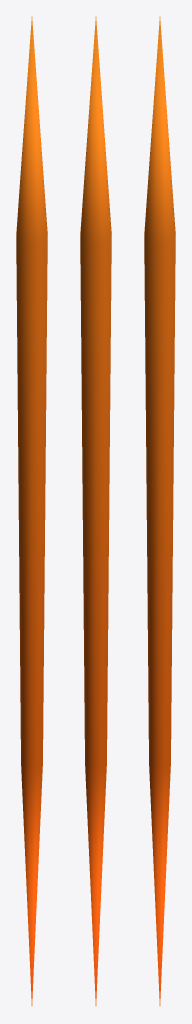
Rendered from Explosion_SparkStreak.fbx.
The picture shows the model from 3 angles, left to right: view 1: azimuth 90°, elevation 25°; view 2: azimuth 150°, elevation 25°; view 3: azimuth 270°, elevation 25°; orthographic projection.
Visible parts, largest first — view 1: PART_SparkStreak; view 2: PART_SparkStreak; view 3: PART_SparkStreak.
Boxes of the visible parts, x1,y1,x2,y2 form: PART_SparkStreak: (16, 16, 47, 1005); PART_SparkStreak: (80, 16, 111, 1005); PART_SparkStreak: (144, 16, 175, 1005).
Size of the model in its own units: 6.6 by 200 by 5.72.
